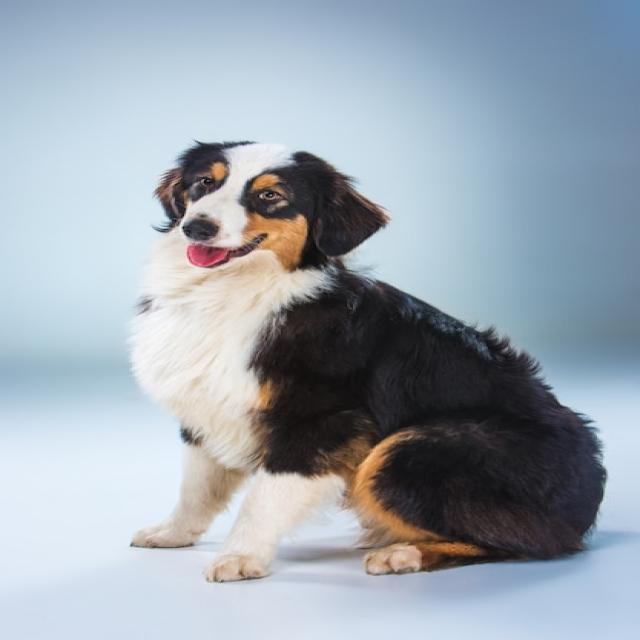Dog: (130, 141, 606, 584)
